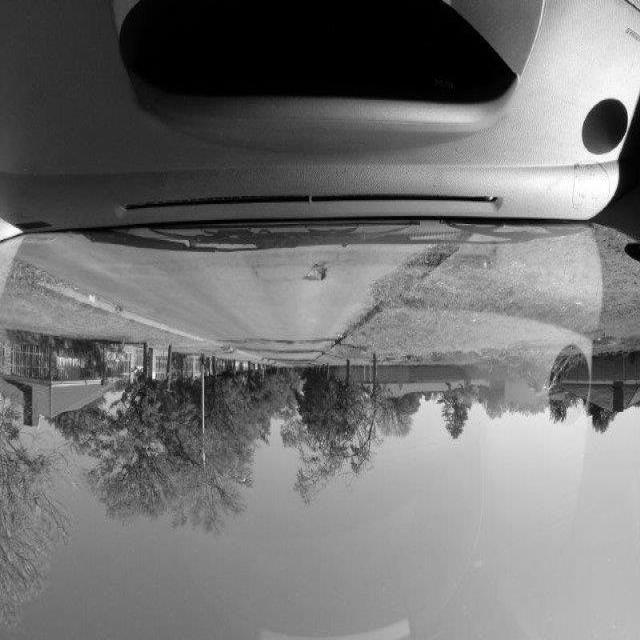lubang: (297, 260, 333, 288)
